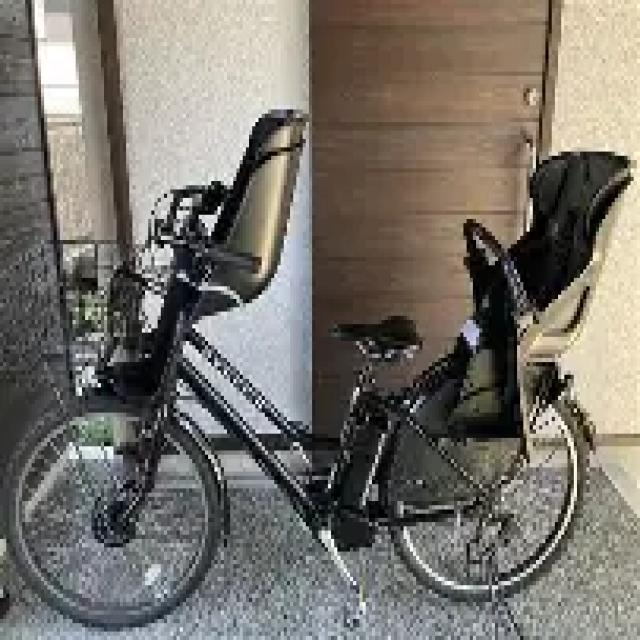basket: (0, 235, 145, 378)
battery: (325, 399, 391, 513)
childseat: (432, 150, 636, 486), (158, 101, 316, 352)
